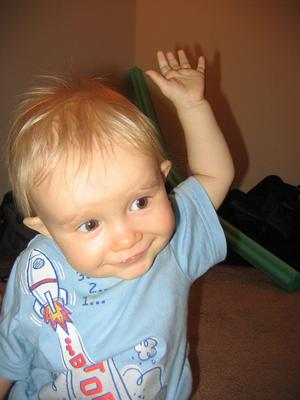person: (1, 48, 236, 400)
